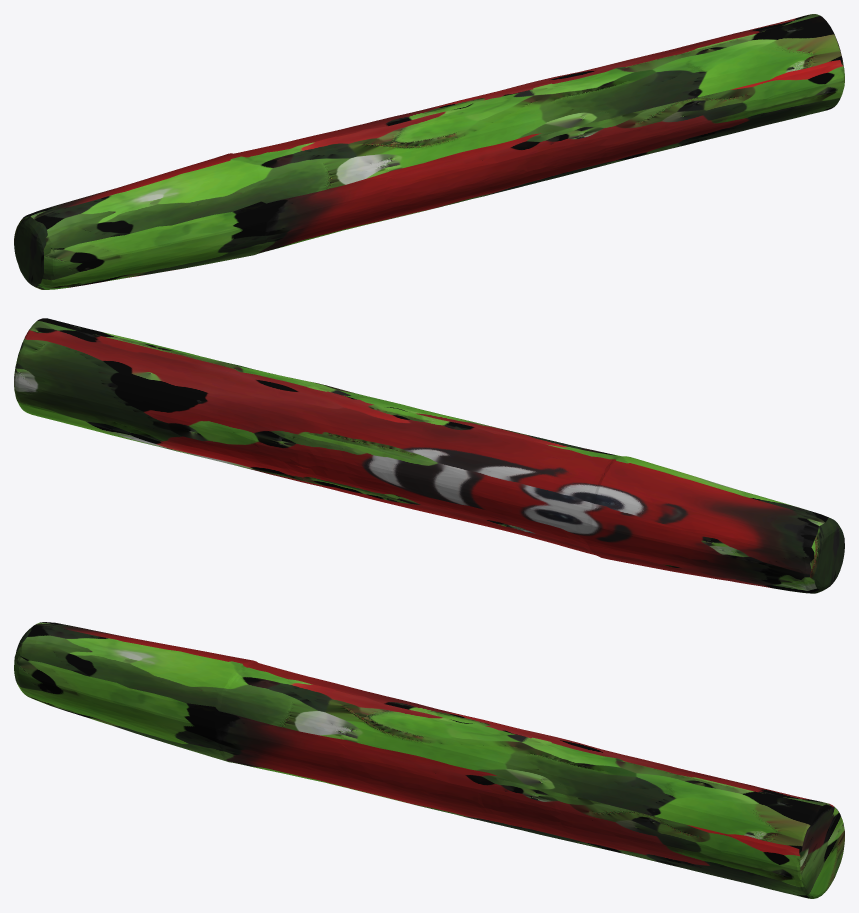
The model's file is sample.obj.
3 views of the same model, one above another, from view 1: azimuth 30°, elevation 25°; view 2: azimuth 150°, elevation 25°; view 3: azimuth 330°, elevation 25° (orthographic).
Bounding box in the file's own units: 0.1886 × 0.0215 × 0.0207.
